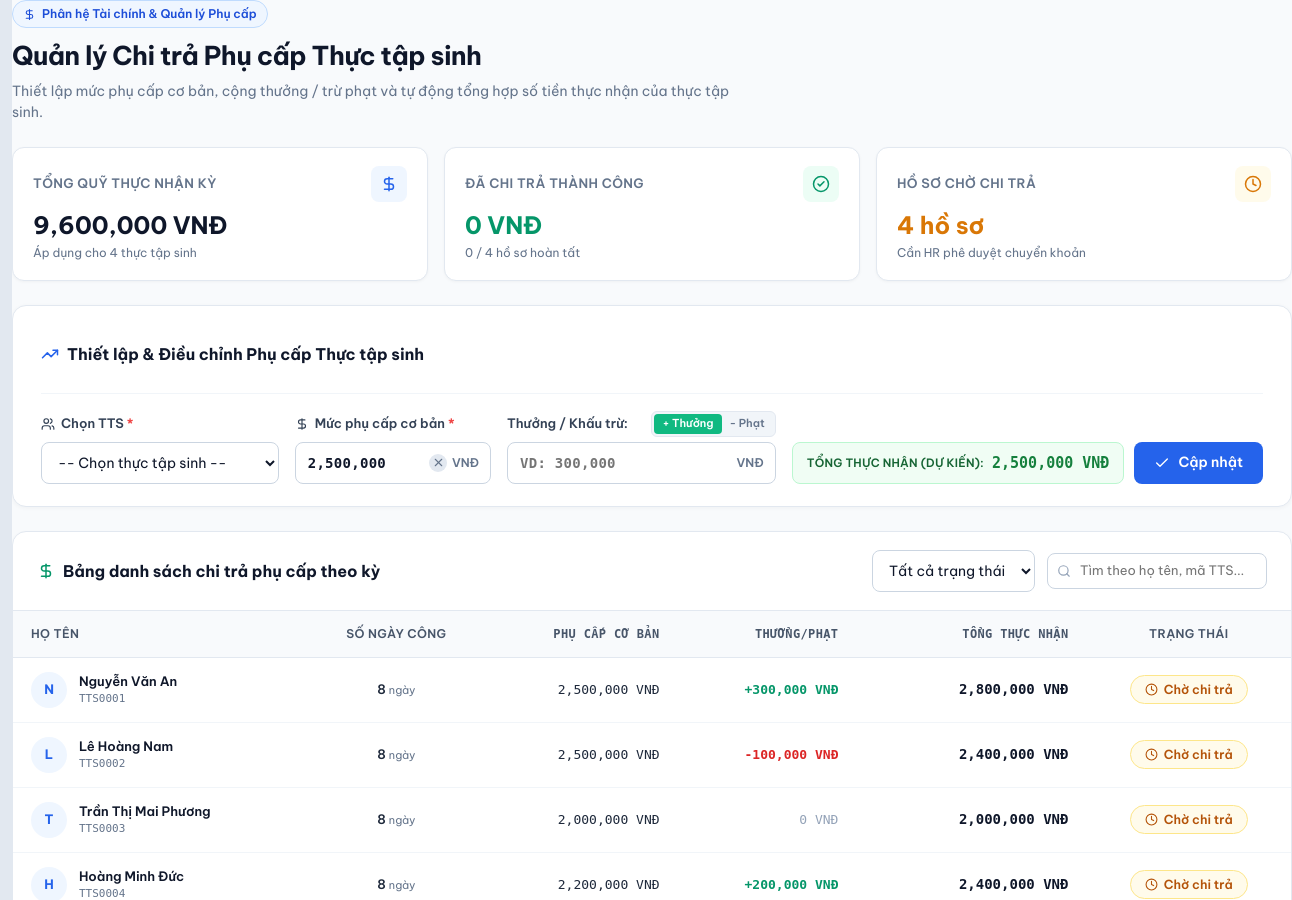
Test case: AllowanceManagementPage Component Test Suite › 3. Ràng buộc nhập liệu ô Input tiền › tự động format dấu phẩy khi gõ số vào ô Thưởng/Khấu trừ
Step 1. Type "350000" into the field named "Thưởng hoặc khấu trừ" → (641, 463), box [507,442,776,484]
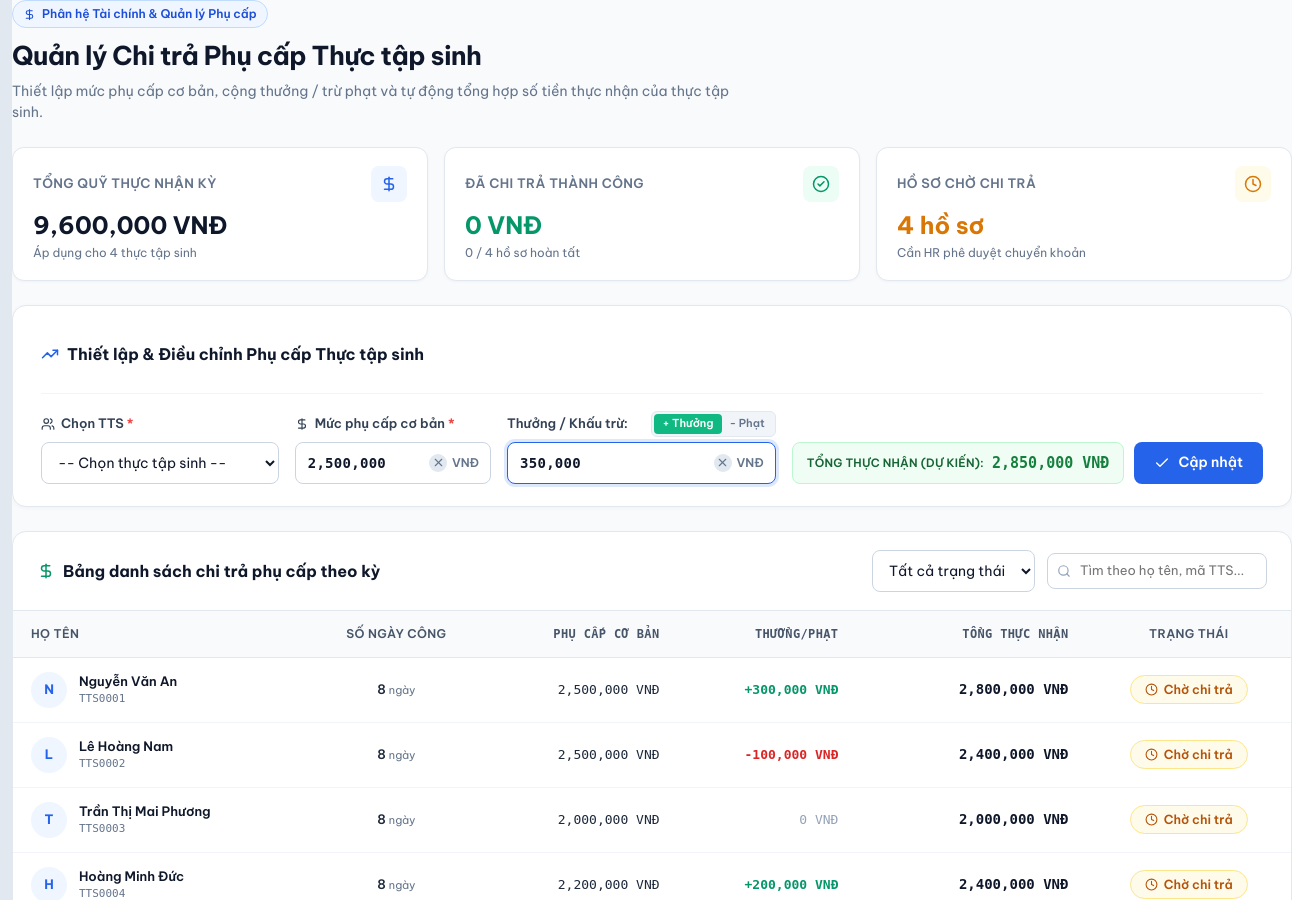
Check: the field named "Thưởng hoặc khấu trừ" holds "350,000", box [507,442,776,484]
